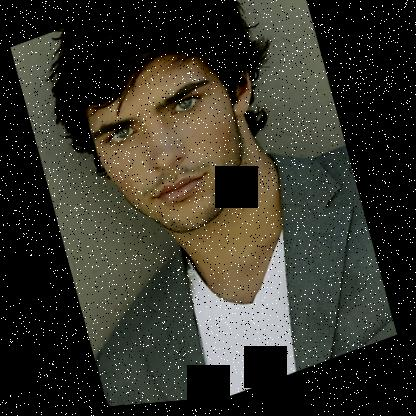Male: (77, 33, 286, 260)
